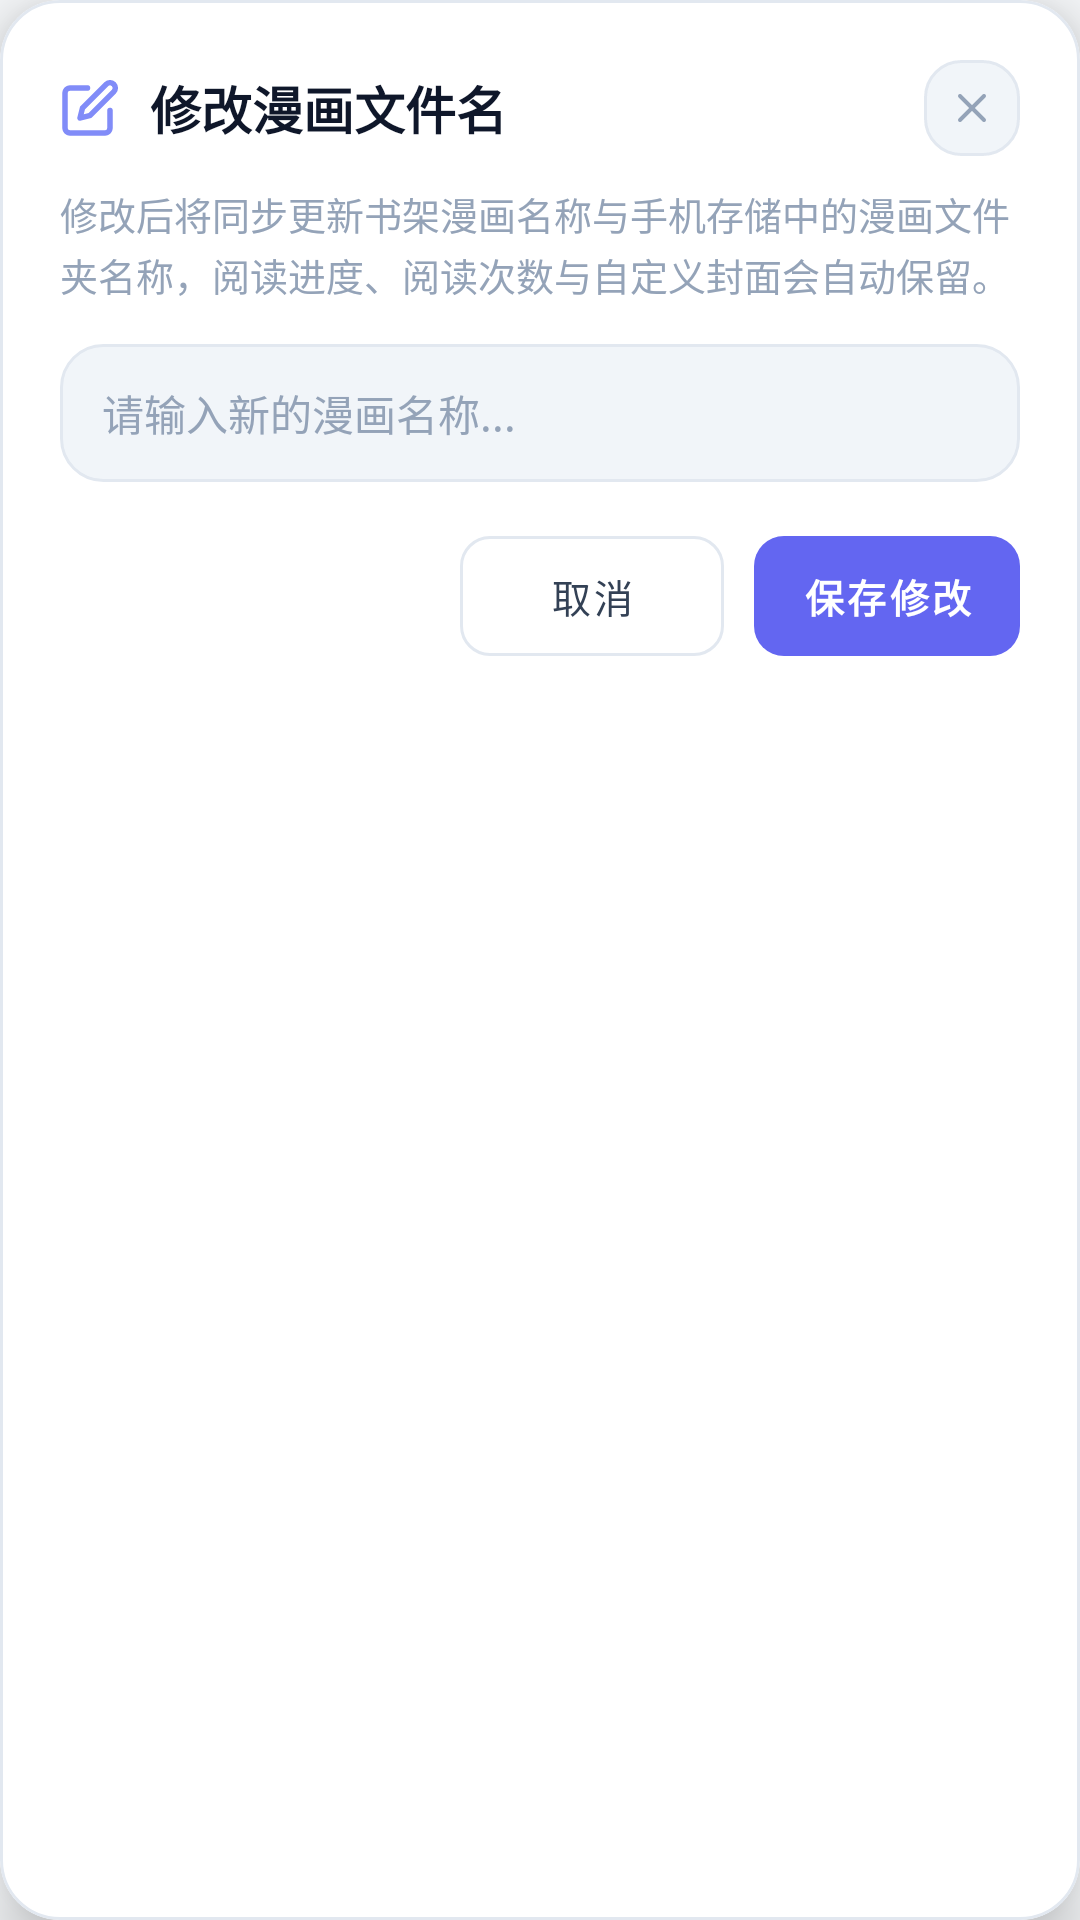

Icon click points for this 1080w x 1920h phone screenshot, format (x=x, y=y):
close: (x=972, y=108)
edit: (x=90, y=108)
